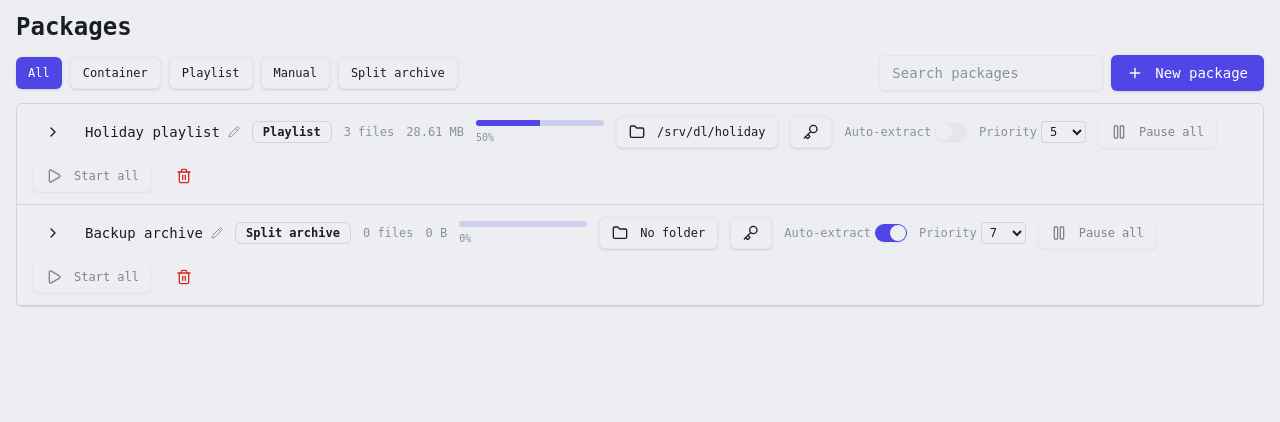
Scenario: PackagesView › cancels a pending move and clears the live region
Expected: the text "Holiday playlist" is shown, [85, 122, 220, 142]
Click the button with test id "package-row-pkg-1-toggle": (53, 132) [33, 116, 73, 148]
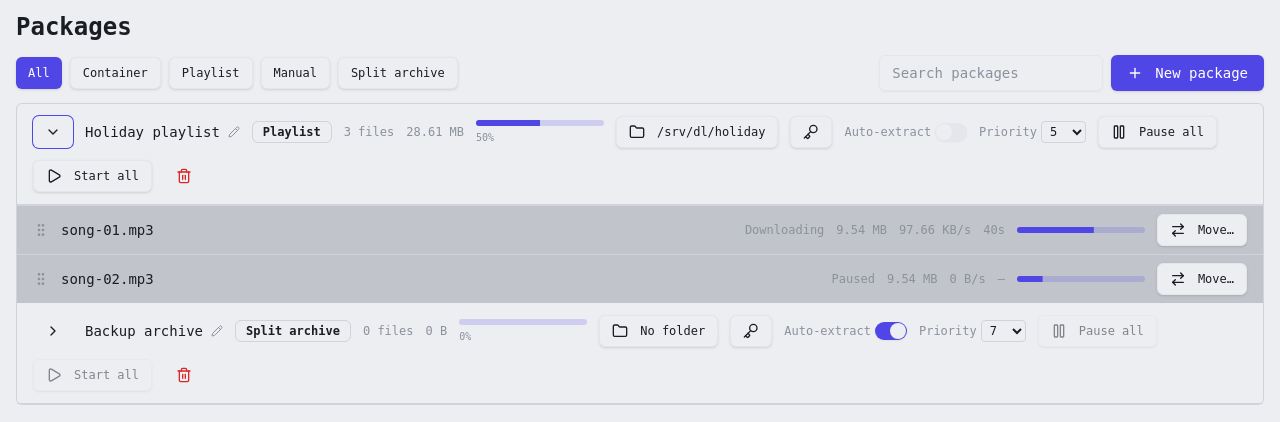
Result: the text "song-01.mp3" is shown at [61, 222, 154, 238]
Click the button with test id "package-download-row-42-move": (1202, 230) [1157, 214, 1247, 246]
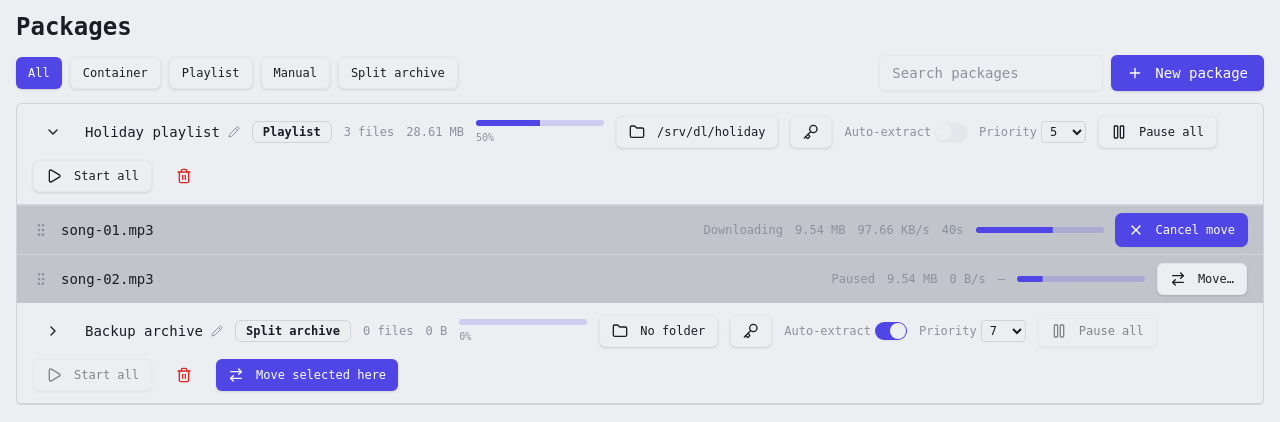
Result: the button with test id "package-download-row-42-move-cancel" is pressed
Click the button with test id "package-download-row-42-move-cancel": (1181, 230) [1116, 214, 1247, 246]
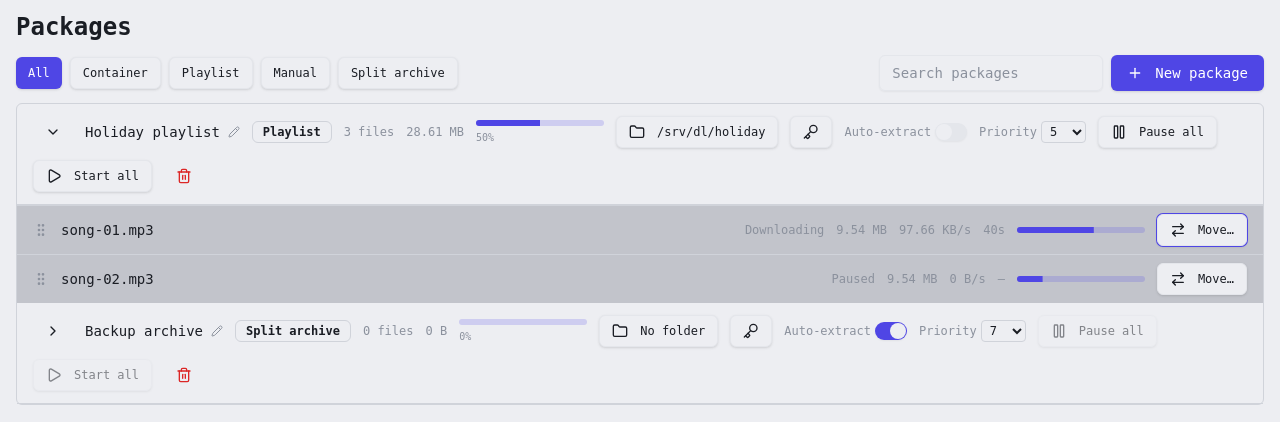
Result: the button with test id "package-row-pkg-2-move-target" is gone
